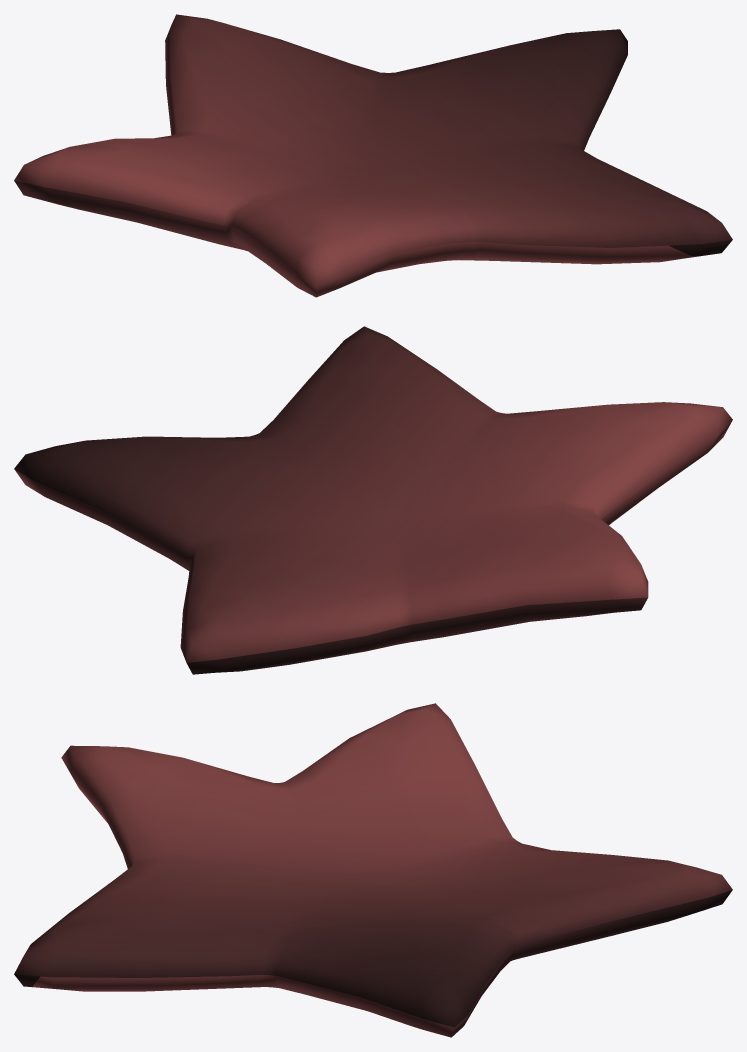
File: star.glb
3 views of the same model, one above another, from view 1: azimuth 30°, elevation 25°; view 2: azimuth 150°, elevation 25°; view 3: azimuth 270°, elevation 25° (orthographic). The views are drawn at different scales.
Visible parts, largest first — view 1: cs_star4; view 2: cs_star4; view 3: cs_star4.
Part boxes in pixels (box(x1,y1,x2,y2)): cs_star4: box(14, 14, 732, 297); cs_star4: box(14, 326, 732, 674); cs_star4: box(14, 703, 732, 1037).
Size of the model in its own units: 0.7092 by 0.1319 by 0.7272.
1 material, 1 textured.
